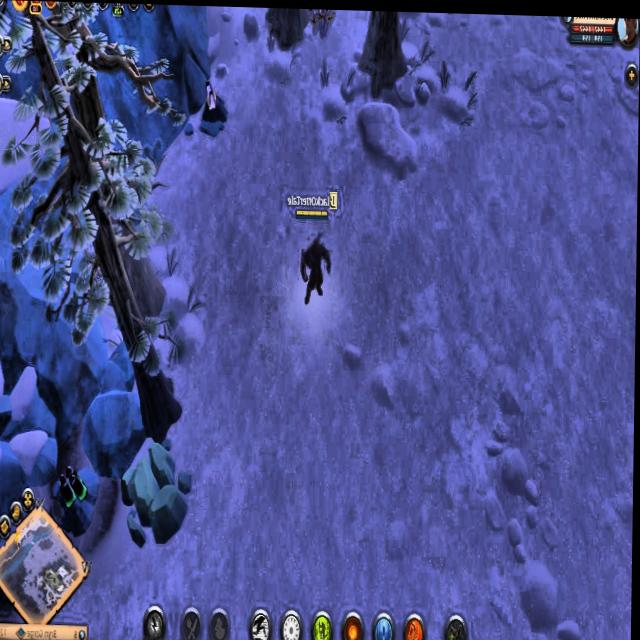copperore: (197, 78, 228, 130)
sandstone: (123, 435, 194, 550)
tinore: (58, 464, 99, 538)
